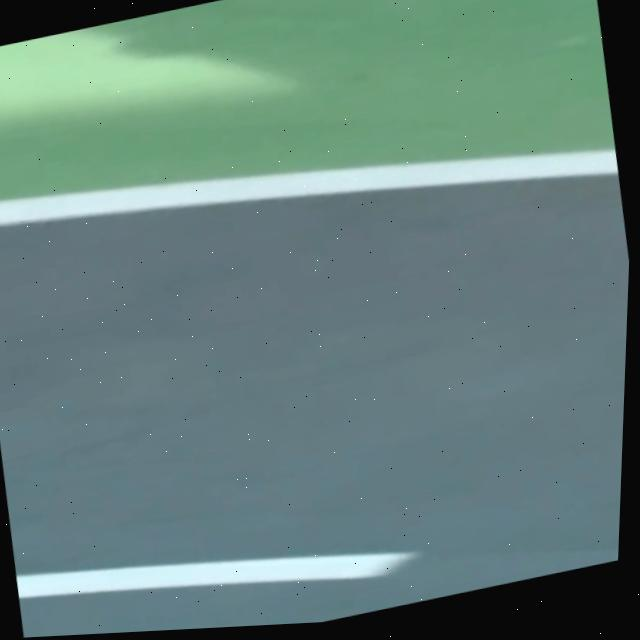center: (16, 553, 413, 600)
right: (0, 150, 618, 226)
